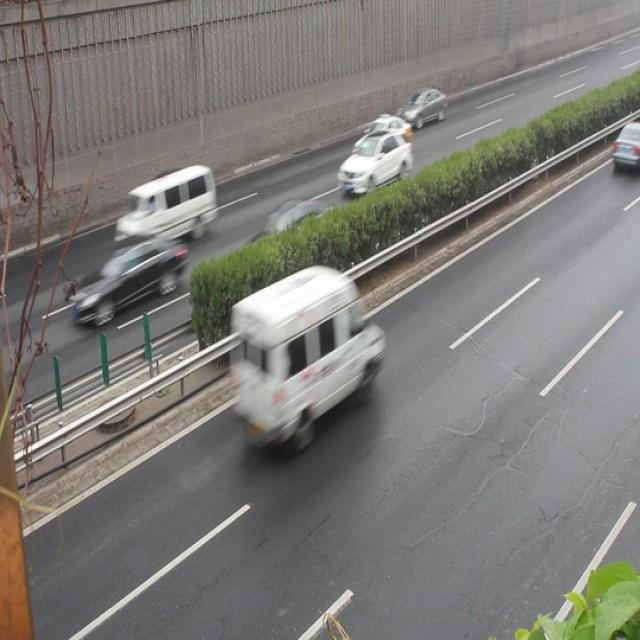car: (231, 268, 381, 442), (74, 233, 185, 325), (240, 197, 347, 278), (337, 130, 412, 196), (350, 114, 411, 158), (396, 87, 444, 126), (608, 120, 640, 172)
truck: (113, 163, 217, 249)
